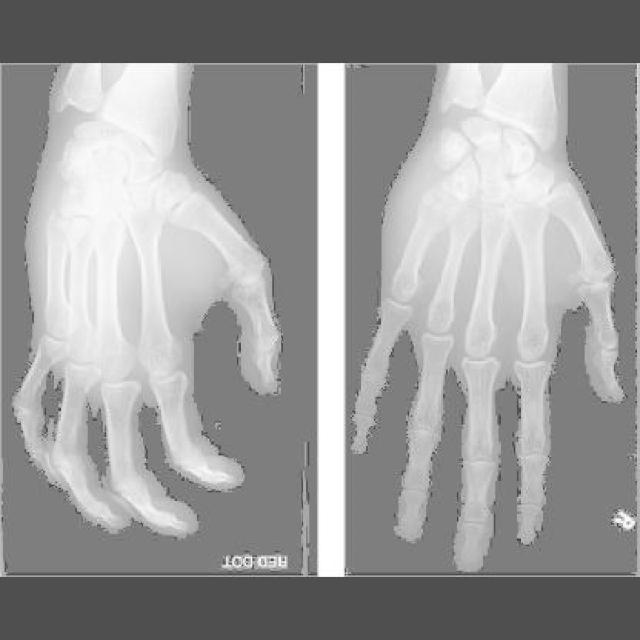Fracture: (45, 215, 85, 257), (418, 189, 456, 223)
